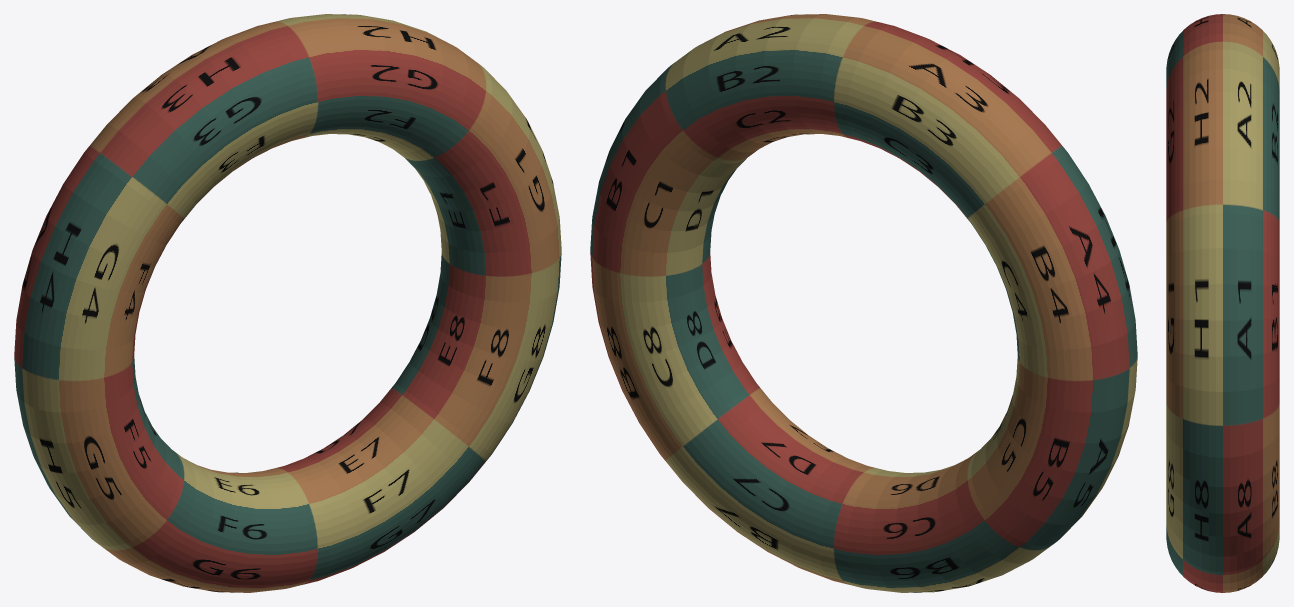
Rendered from texture_torus_R22_r15.glb.
3 views of the same model, side by side, from view 1: azimuth 30°, elevation 25°; view 2: azimuth 150°, elevation 25°; view 3: azimuth 270°, elevation 25° (orthographic). The views are drawn at different scales.
Parts seen in each view (by area): view 1: world; view 2: world; view 3: world.
Boxes of the visible parts, x1,y1,x2,y2 form: world: [14, 14, 561, 592]; world: [590, 14, 1137, 592]; world: [1166, 14, 1279, 592].
Size of the model in its own units: 30.67 by 30.61 by 5.99.
Materials: 1 (1 with a texture image).
